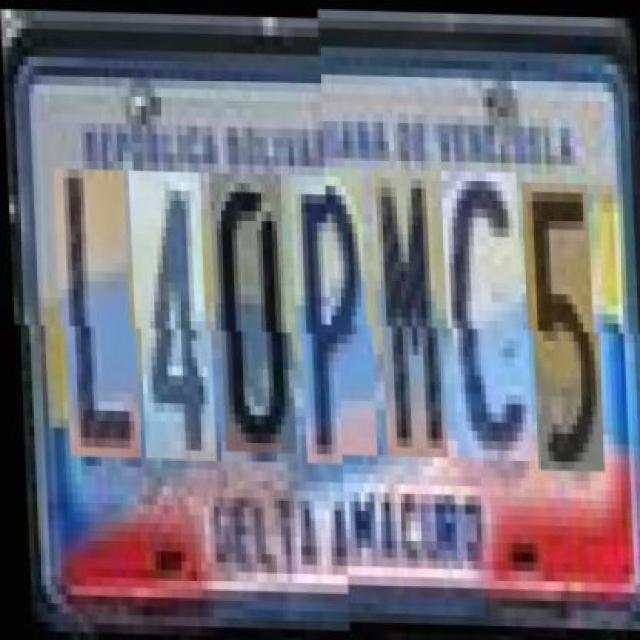0: (212, 172, 292, 452)
4: (132, 170, 212, 459)
5: (524, 188, 602, 478)
c: (444, 177, 530, 466)
l: (55, 168, 137, 457)
m: (374, 176, 444, 464)
p: (293, 173, 375, 462)
